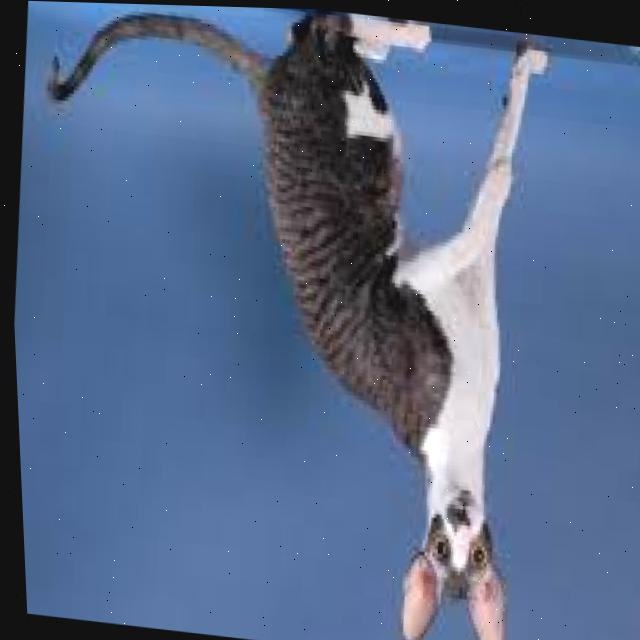Cornish Rex: (0, 0, 573, 640)
